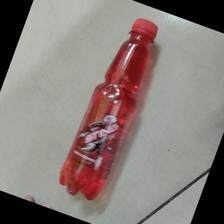Sting: (59, 18, 159, 198)
